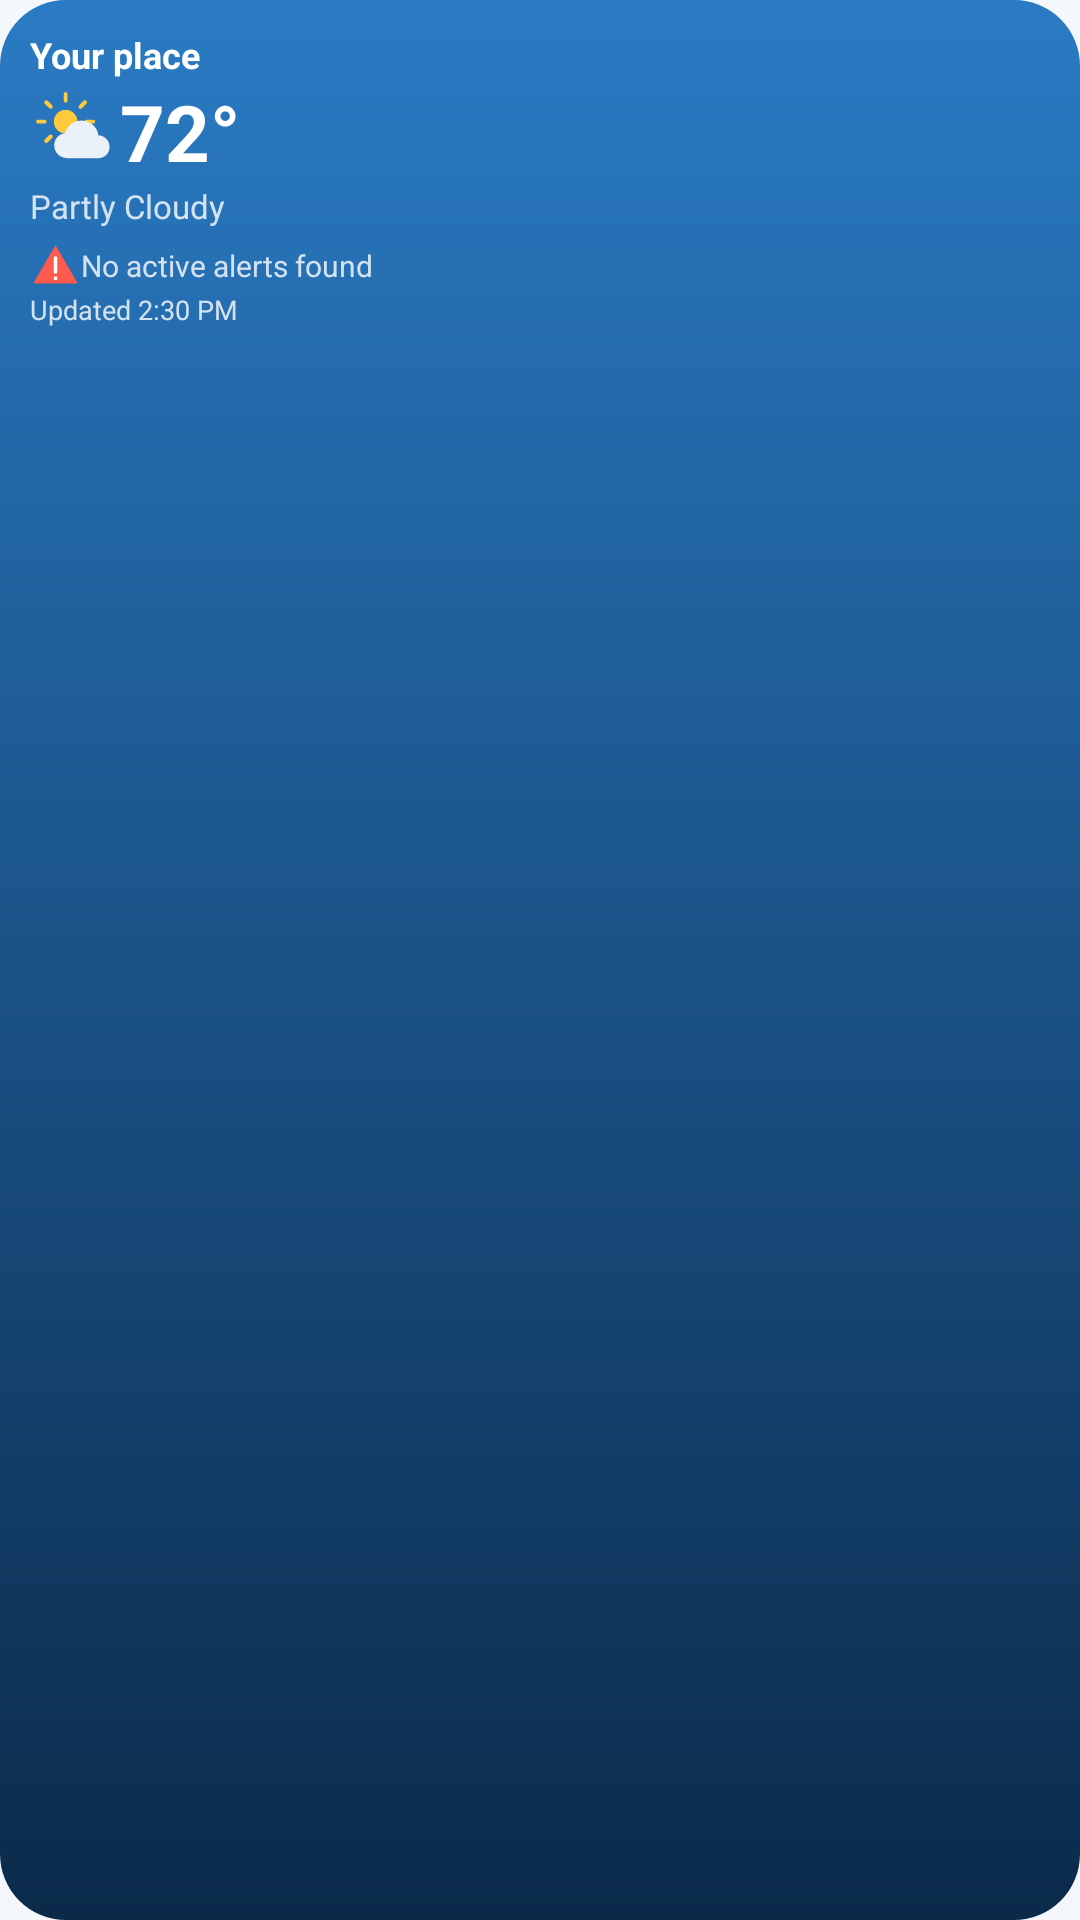

Icons on this 1080 × 1920 Android screen, each with the point to tap as [x,y]:
partly day: [73,125]
